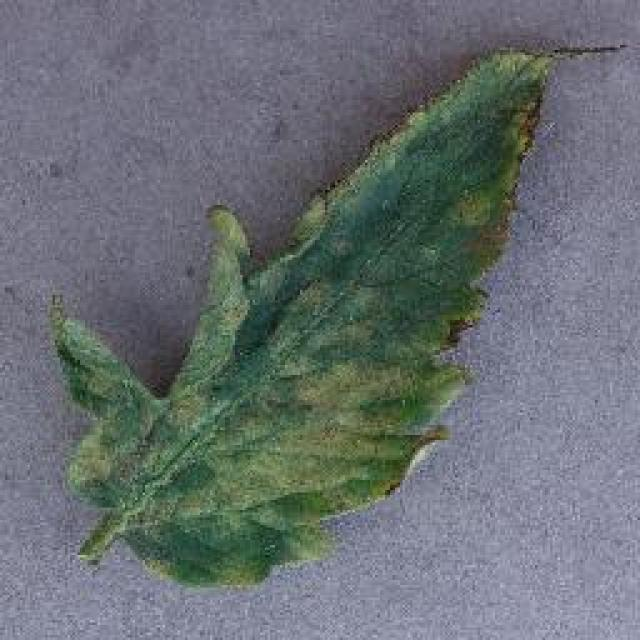Tomato mold leaf: (58, 44, 618, 586)
